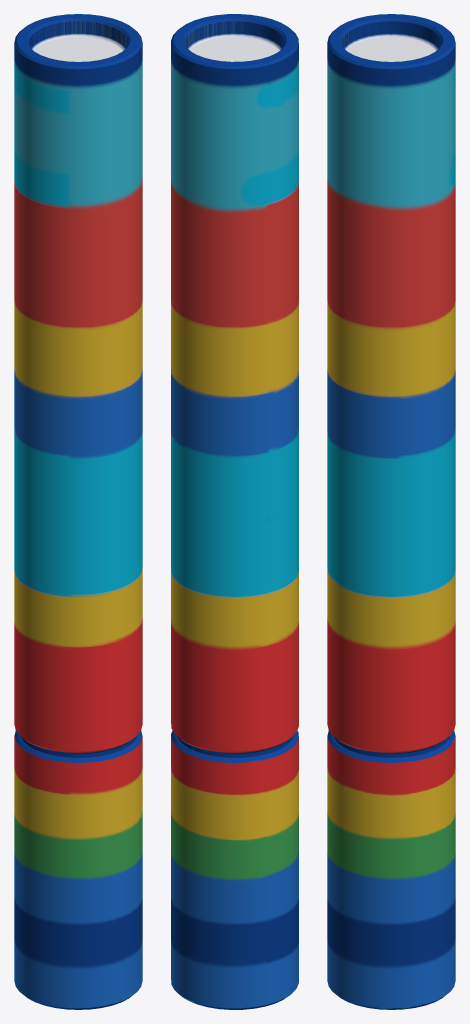
Rendered from FireworkTube.fbx.
The picture shows the model from 3 angles, left to right: view 1: azimuth 90°, elevation 25°; view 2: azimuth 210°, elevation 25°; view 3: azimuth 270°, elevation 25°; orthographic projection.
Parts seen in each view (by area): view 1: FireworkTube_Top, FireworkTube_Bottom; view 2: FireworkTube_Top, FireworkTube_Bottom; view 3: FireworkTube_Top, FireworkTube_Bottom.
Boxes of the visible parts, <box> form: FireworkTube_Top: <box>14,14,142,757</box>; FireworkTube_Bottom: <box>14,730,142,1009</box>; FireworkTube_Top: <box>171,14,298,757</box>; FireworkTube_Bottom: <box>171,730,298,1009</box>; FireworkTube_Top: <box>327,14,455,757</box>; FireworkTube_Bottom: <box>327,730,455,1009</box>.
Size of the model in its own units: 7.36 by 59.9 by 7.36.
Materials: 1 (1 with a texture image).
